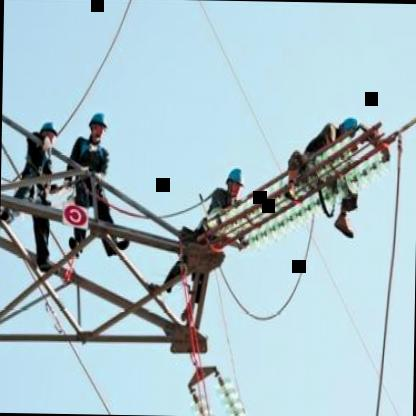helmet: (81, 109, 113, 151), (330, 111, 359, 147), (223, 161, 247, 195), (38, 116, 58, 147)
